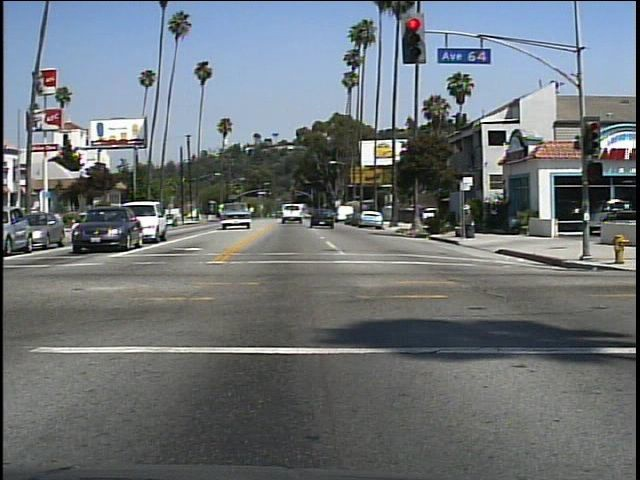person: (460, 198, 481, 241)
